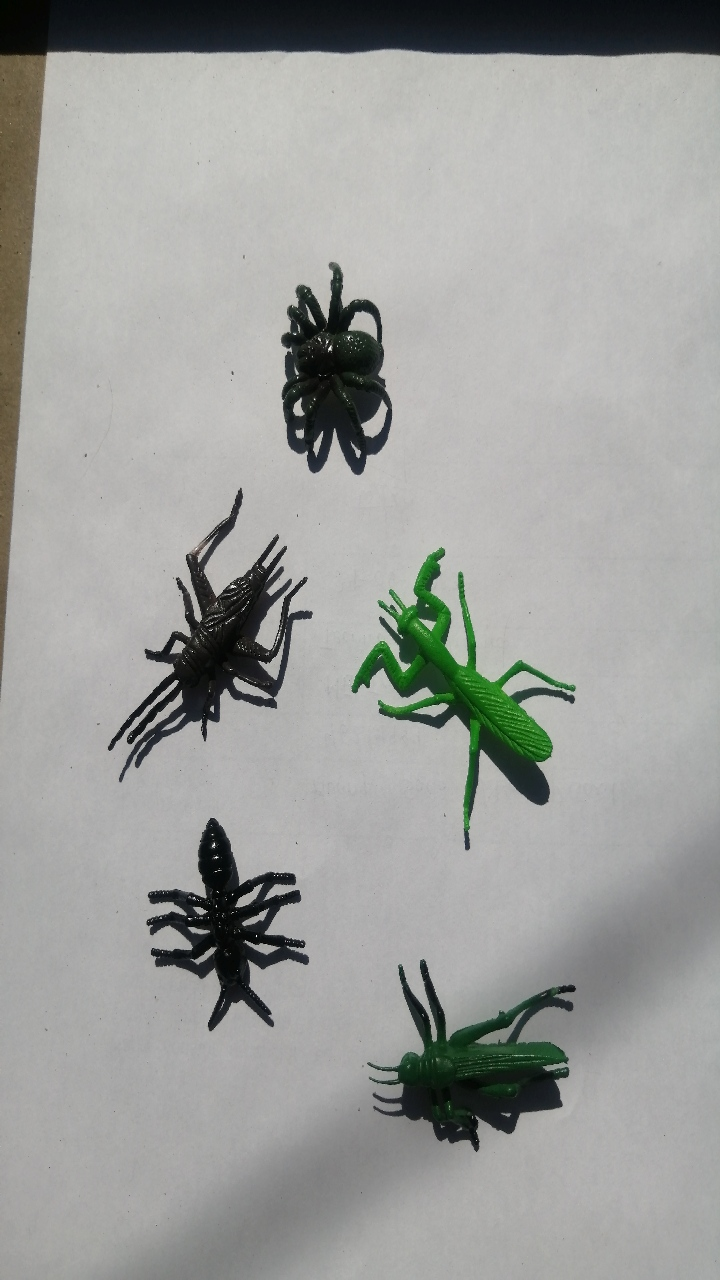intruso: (328, 509, 592, 875), (106, 480, 312, 805), (346, 926, 606, 1169), (108, 789, 324, 1052), (237, 251, 443, 469)
